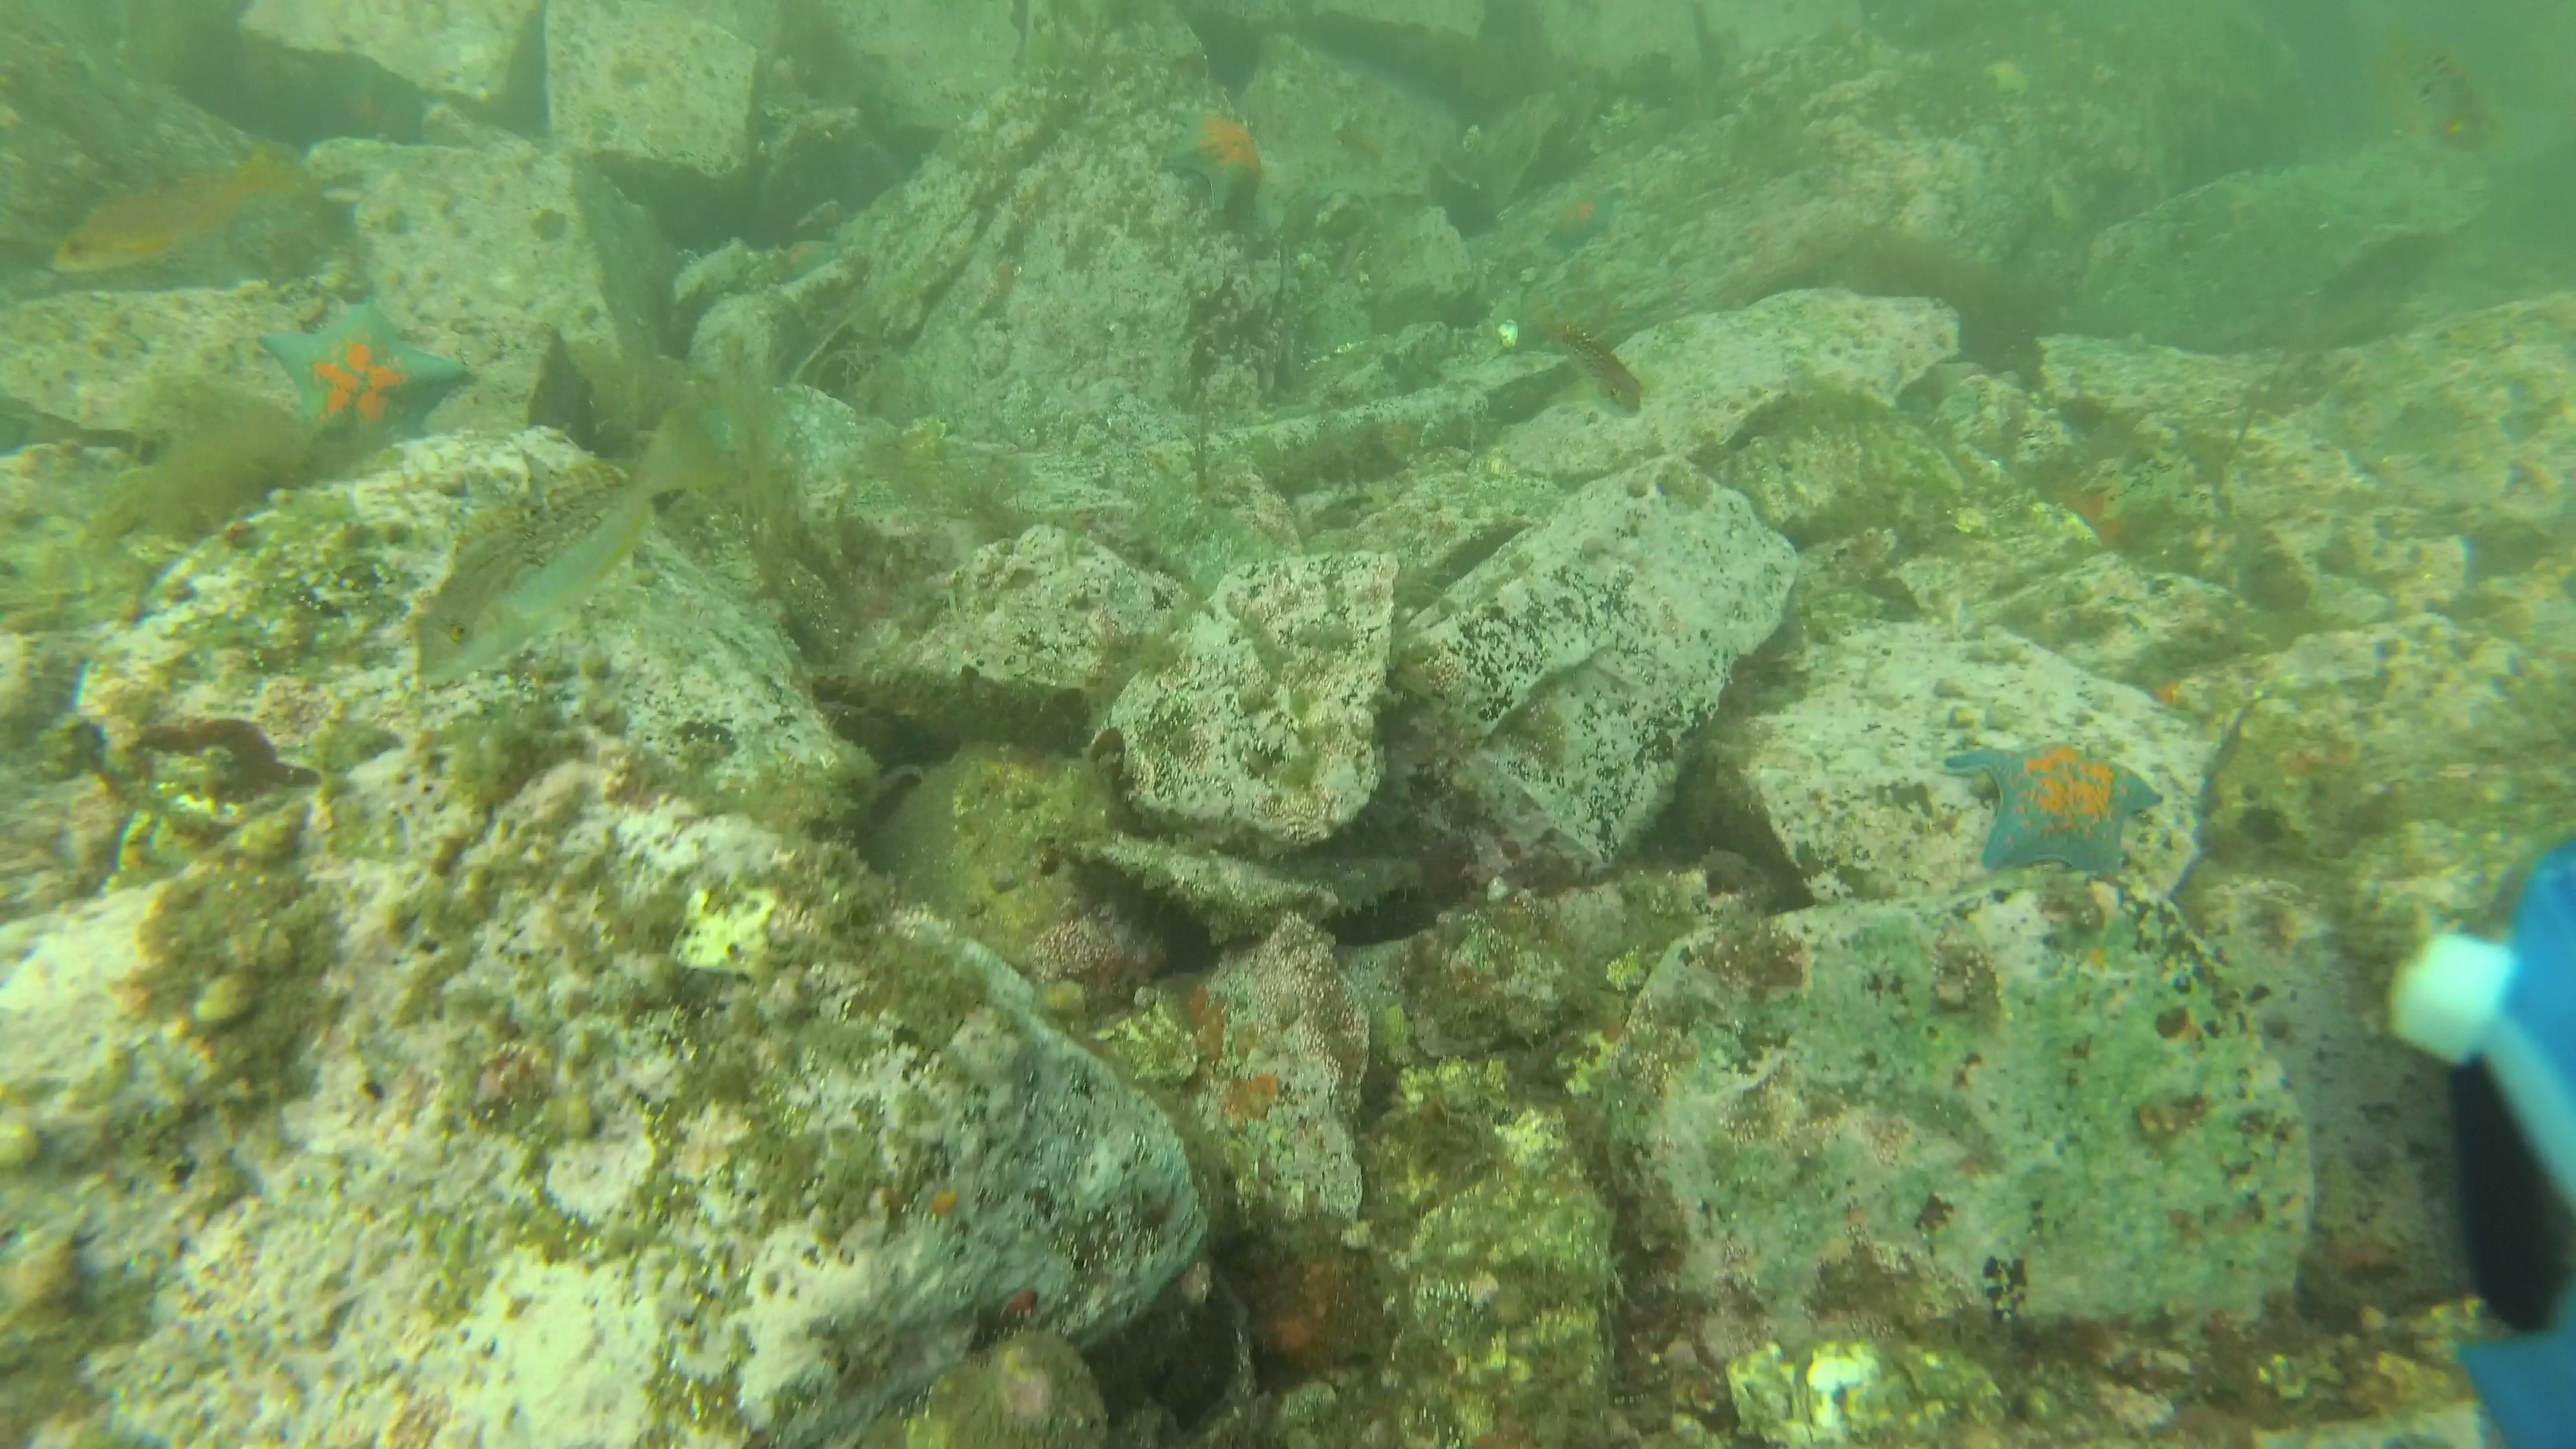starfish: (251, 294, 479, 465), (1939, 732, 2167, 883), (1152, 97, 1263, 216), (1541, 180, 1628, 260)
